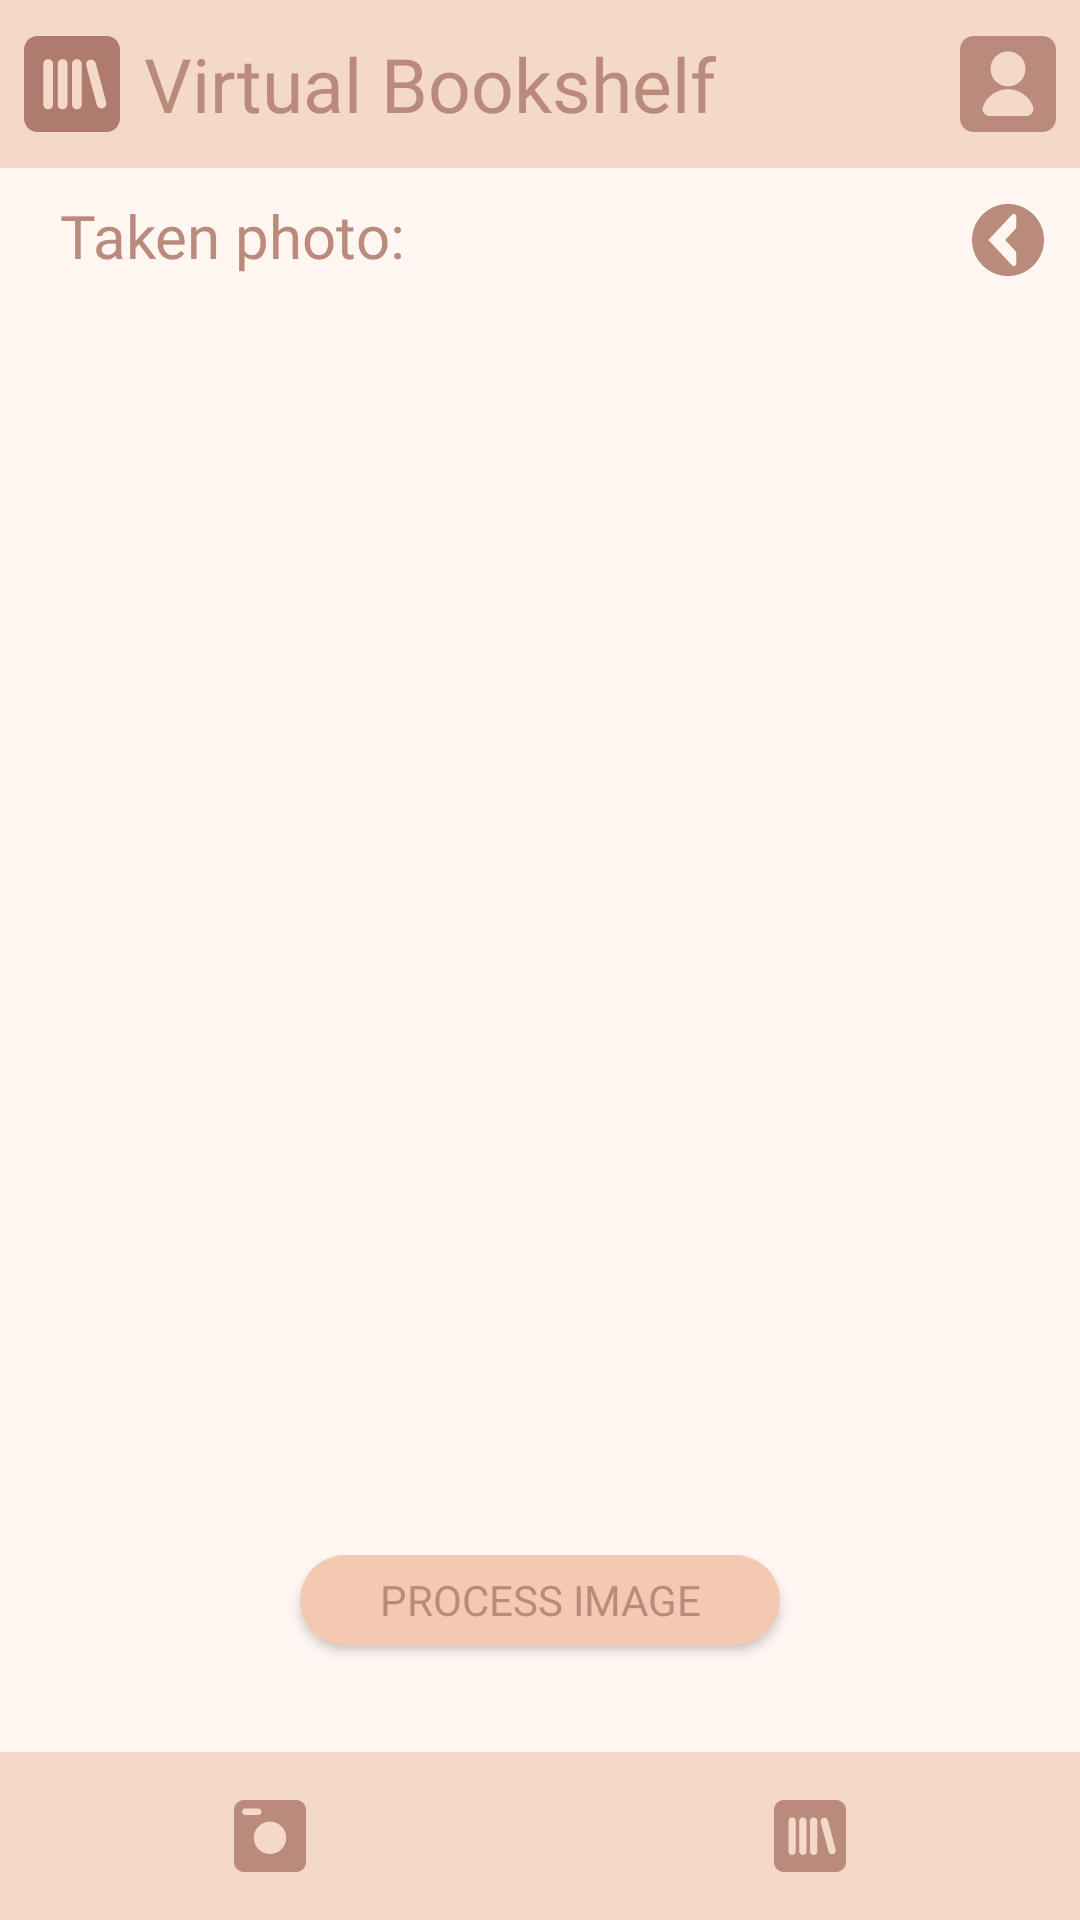

Where to tap for icons on this 1080x1920 app screen, as [x,y]:
Go back to main activity: [1008,240]
User Icon: [1008,84]
